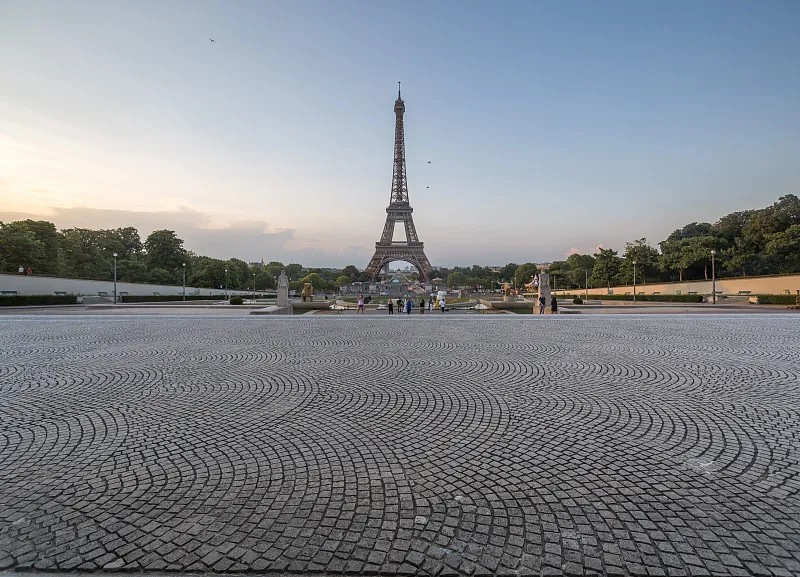Eiffel: (365, 81, 433, 285)
